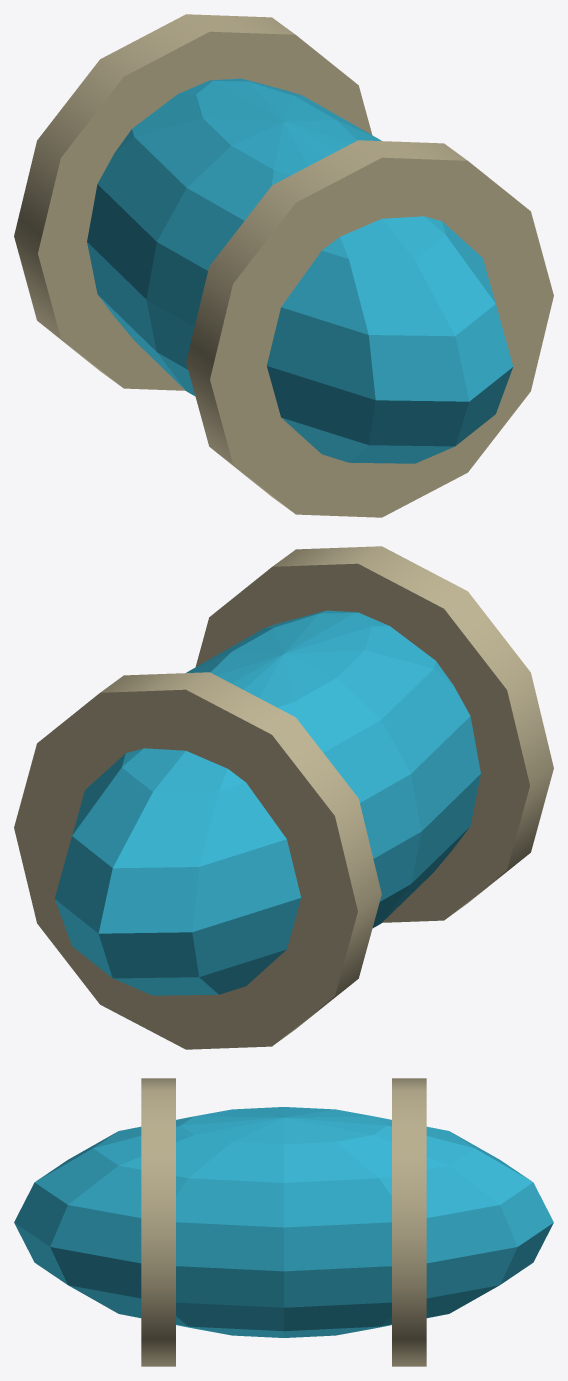
The model's file is noir-projectile-arc.glb.
The picture shows the model from 3 angles, top to bottom: view 1: azimuth 30°, elevation 25°; view 2: azimuth 150°, elevation 25°; view 3: azimuth 270°, elevation 25°; orthographic projection. The views are drawn at different scales.
Parts seen in each view (by area): view 1: noir-projectile-arc mesh; view 2: noir-projectile-arc mesh; view 3: noir-projectile-arc mesh.
Part boxes in pixels (left/top/right/bottom): noir-projectile-arc mesh: left=14, top=14, right=553, bottom=517; noir-projectile-arc mesh: left=14, top=546, right=553, bottom=1049; noir-projectile-arc mesh: left=14, top=1078, right=553, bottom=1366.
Size of the model in its own units: 0.15 by 0.15 by 0.28.
